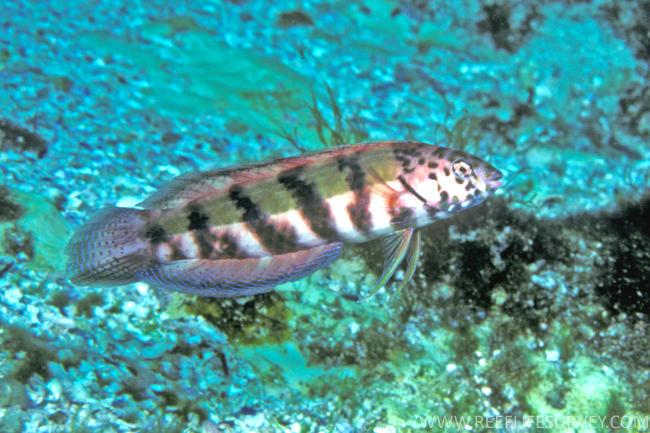fish: (63, 140, 504, 298)
